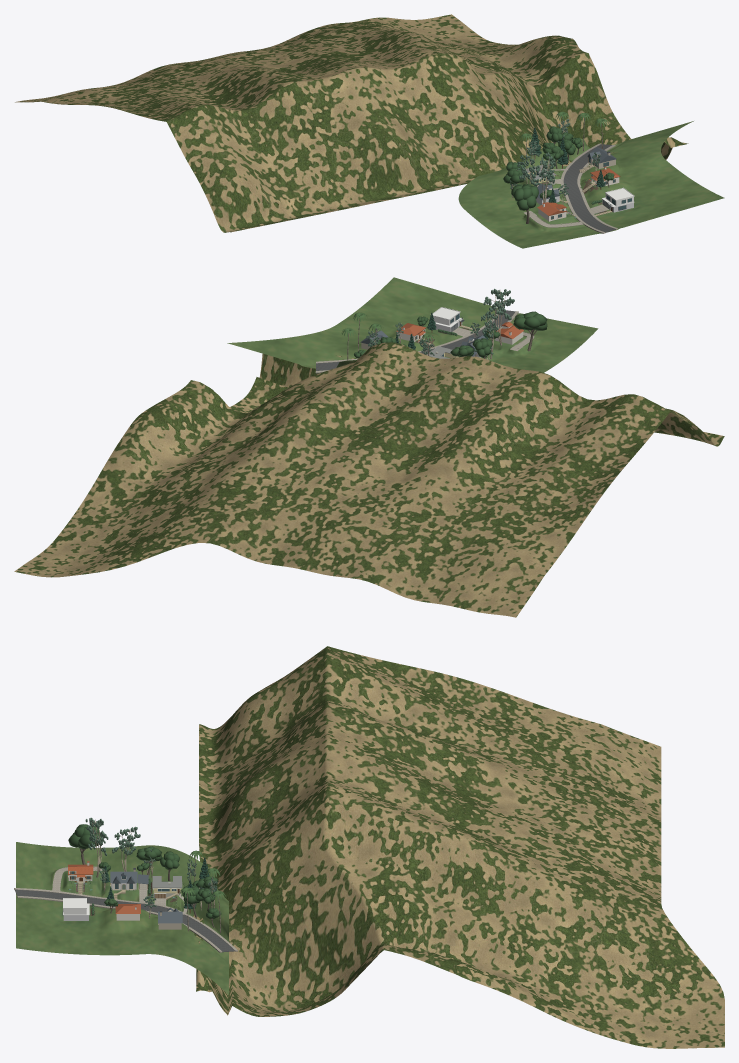
The model's file is LA-hills-web-v3.glb.
3 renders of one model, top to bottom at view 1: azimuth 30°, elevation 25°; view 2: azimuth 150°, elevation 25°; view 3: azimuth 270°, elevation 25°, orthographic. The views are drawn at different scales.
Parts seen in each view (by area): view 1: terrain_hill_bg, Terrain_Hillside_120x100m, Road_Carriageway_7m, Tree_Far_12_Oak, Tree_Far_05_Eucalyptus; view 2: terrain_hill_bg, Terrain_Hillside_120x100m, Tree_Far_05_Eucalyptus, Tree_Far_12_Oak, Road_Carriageway_7m; view 3: terrain_hill_bg, Terrain_Hillside_120x100m, Road_Carriageway_7m.
Part boxes in pixels (x1=…): terrain_hill_bg: x1=15, y1=14, x2=688, y2=232; Terrain_Hillside_120x100m: x1=458, y1=121, x2=724, y2=248; Road_Carriageway_7m: x1=563, y1=144, x2=615, y2=232; Tree_Far_12_Oak: x1=511, y1=184, x2=538, y2=223; Tree_Far_05_Eucalyptus: x1=535, y1=152, x2=555, y2=202; terrain_hill_bg: x1=14, y1=342, x2=724, y2=617; Terrain_Hillside_120x100m: x1=227, y1=277, x2=598, y2=372; Tree_Far_05_Eucalyptus: x1=483, y1=288, x2=514, y2=345; Tree_Far_12_Oak: x1=513, y1=311, x2=547, y2=351; Road_Carriageway_7m: x1=316, y1=310, x2=515, y2=370; terrain_hill_bg: x1=193, y1=646, x2=724, y2=1048; Terrain_Hillside_120x100m: x1=16, y1=842, x2=228, y2=994; Road_Carriageway_7m: x1=15, y1=889, x2=234, y2=952.
Size of the model in its own units: 287 by 84.07 by 334.
Materials: 41 (7 with a texture image).
